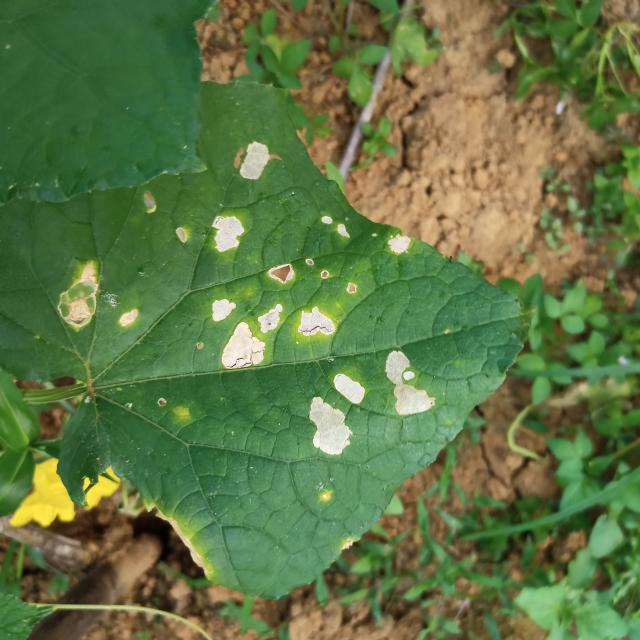disease_cucumber: (210, 262, 338, 367), (56, 261, 140, 333), (304, 373, 368, 456), (382, 346, 437, 419), (211, 214, 245, 254), (239, 140, 270, 182), (318, 214, 358, 242), (384, 231, 411, 256)
